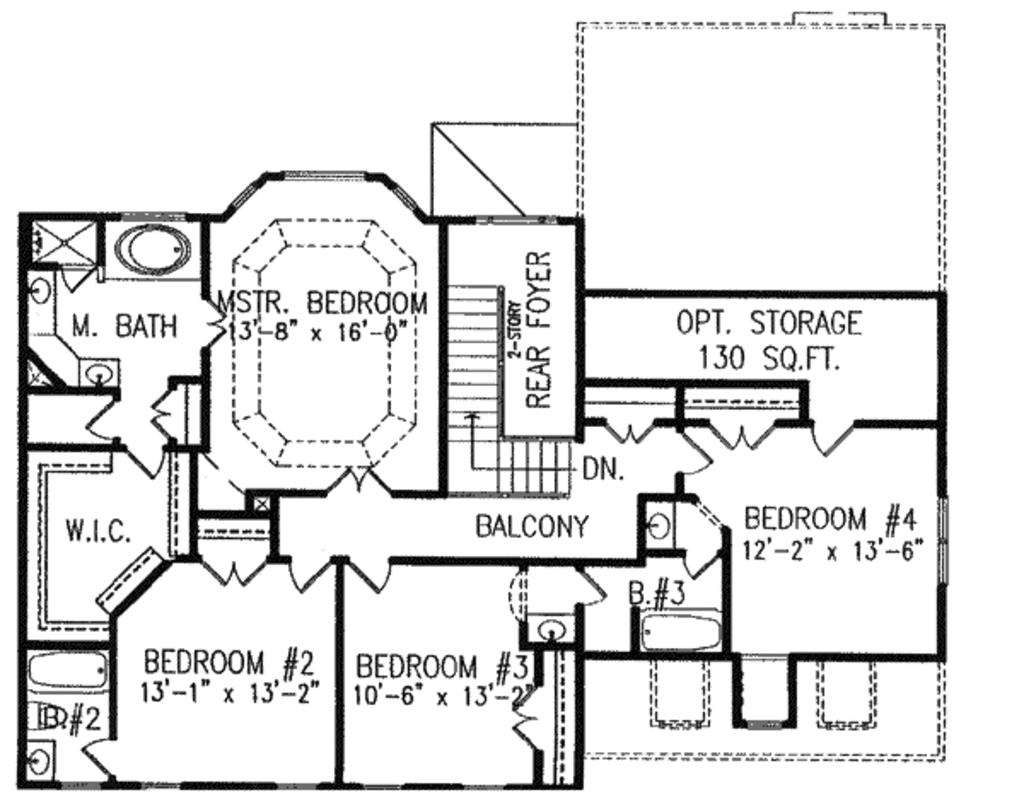door: (702, 415, 774, 452), (342, 552, 395, 596), (196, 557, 266, 588), (673, 429, 715, 477), (810, 419, 859, 460), (323, 466, 391, 495), (512, 687, 544, 748), (599, 414, 658, 446), (572, 568, 613, 613), (78, 737, 123, 778), (144, 388, 178, 441), (674, 543, 719, 583), (288, 556, 334, 594), (84, 400, 120, 447), (120, 447, 169, 480)
small_sink: (25, 268, 62, 336), (71, 355, 123, 391)
stairs: (437, 282, 581, 502)
tub: (104, 219, 203, 283), (639, 605, 731, 655), (17, 651, 113, 694)
windows: (264, 166, 374, 186), (464, 208, 561, 228), (934, 494, 953, 590)
